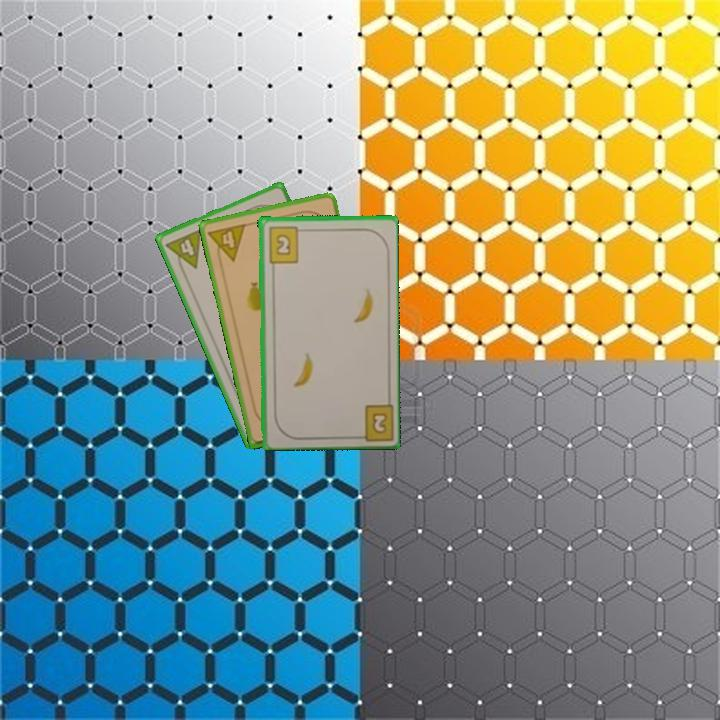2b: (350, 399, 394, 441), (265, 223, 307, 265)
4p: (162, 225, 204, 276), (205, 220, 249, 267)
